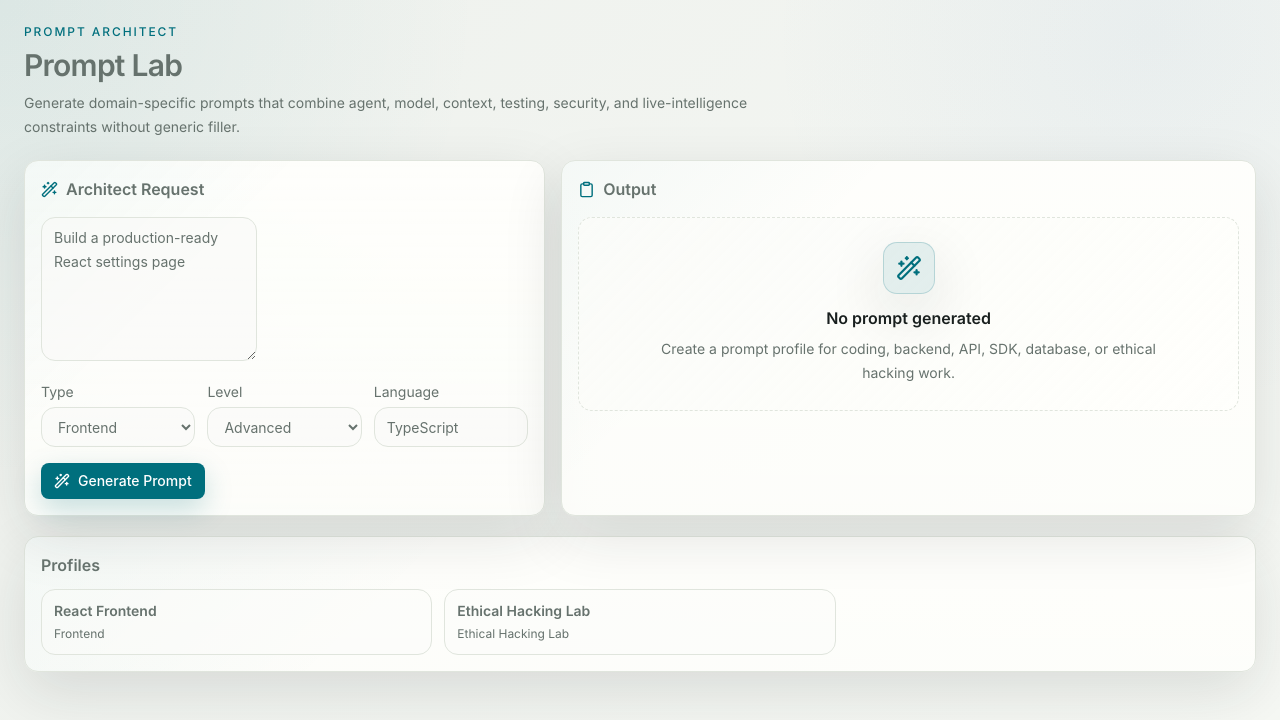
it: PromptLabPage › loads profiles and renders generated prompt output
Expected: the text "React Frontend" is shown, [54,603,157,620]
Click the button "Generate Prompt" at (123, 481), box [41,463,205,499]
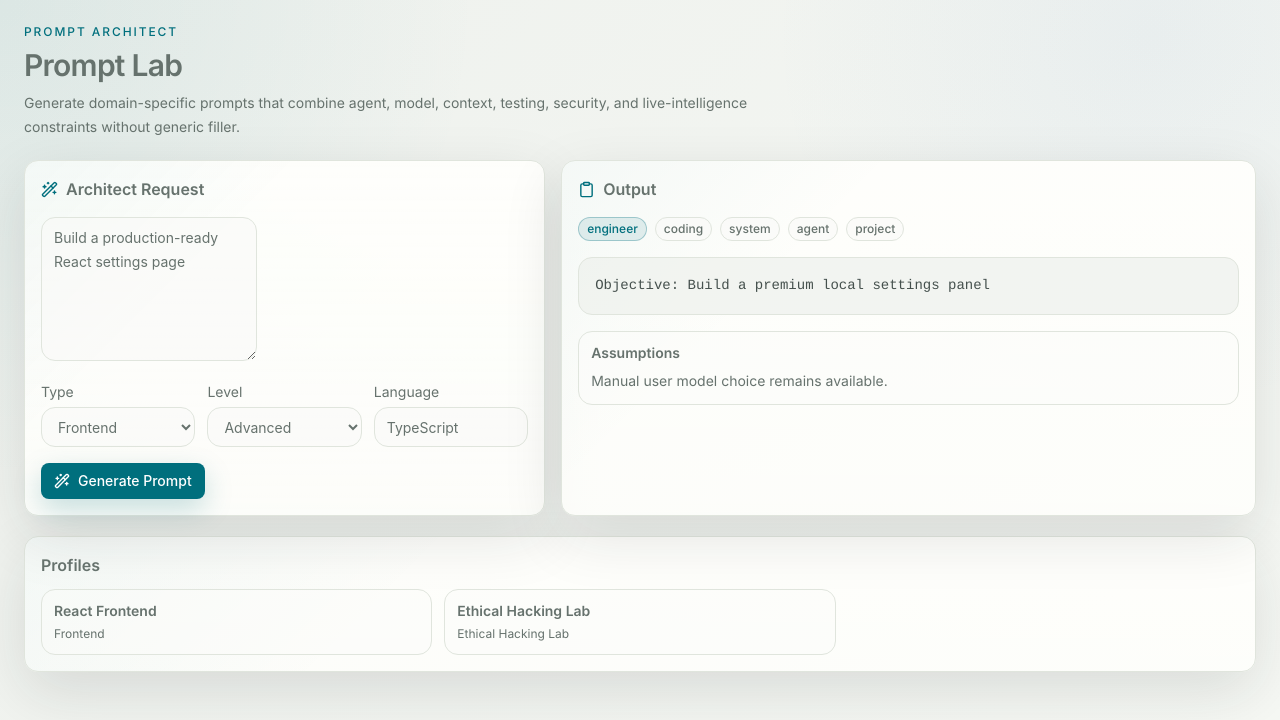
Expected: the text "Objective: Build a premium local settings panel" is shown, [578,257,1239,315]
Expected: the list item "Manual user model choice remains available." is shown, [591,373,888,390]
